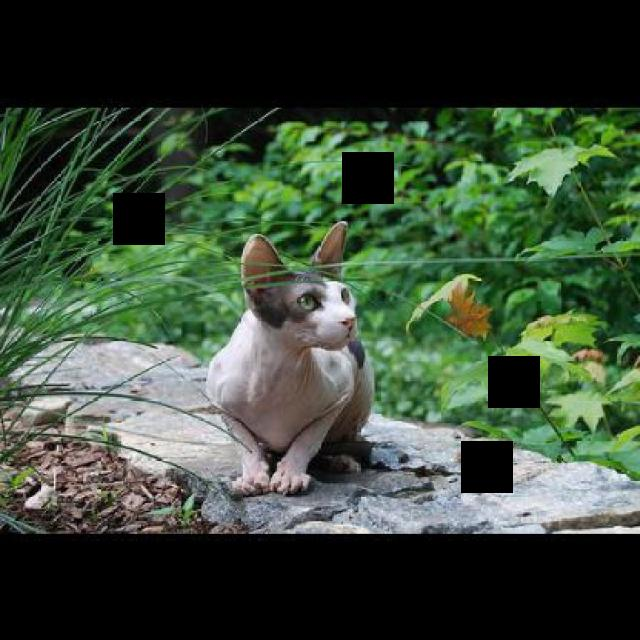unauthorized: (203, 218, 375, 496)
